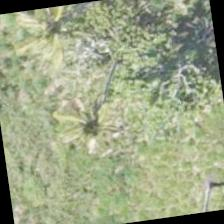Kelapa_Sawit: (41, 71, 143, 173), (5, 2, 104, 80)
